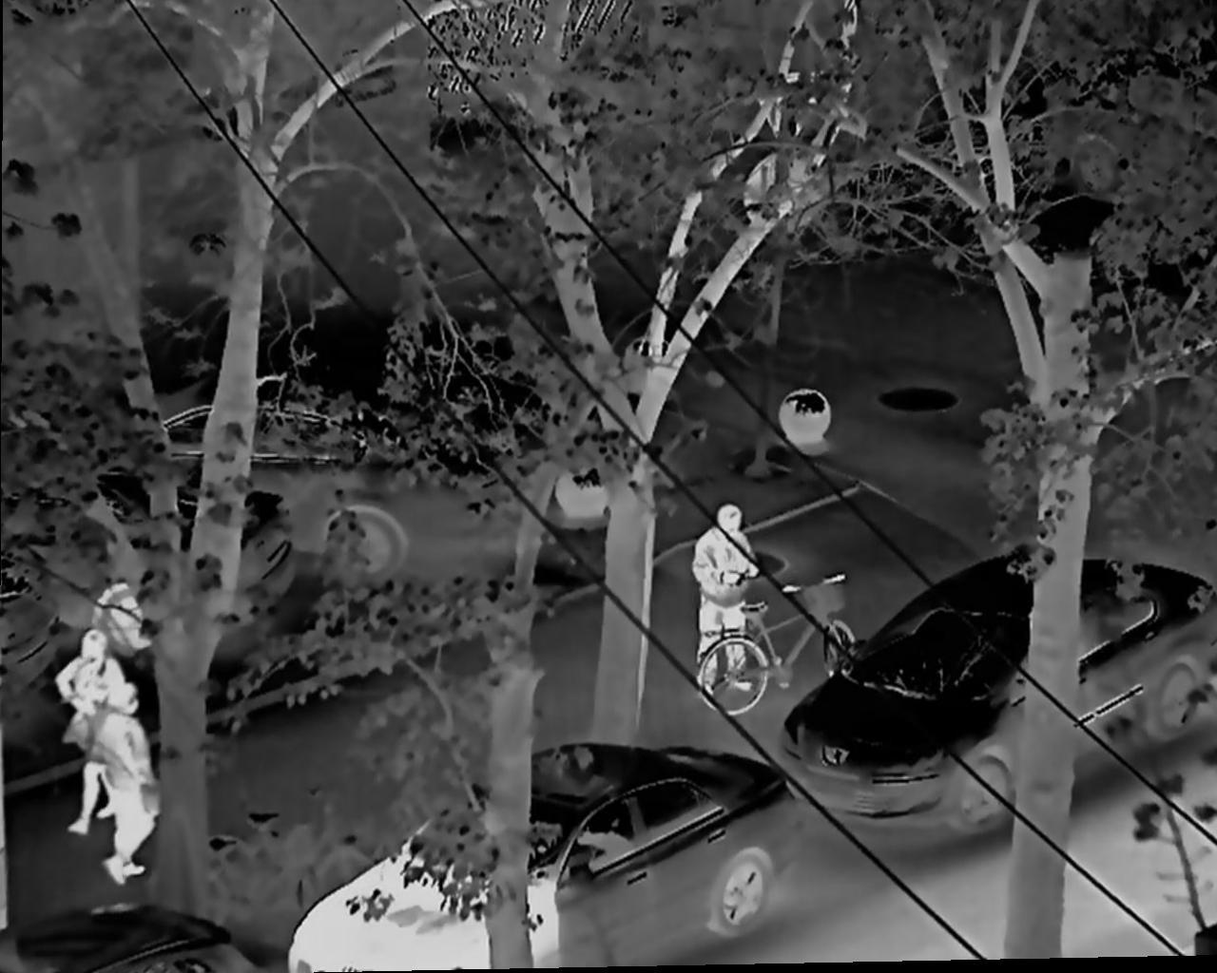person: (56, 629, 123, 835), (691, 503, 758, 695), (104, 682, 157, 885)
